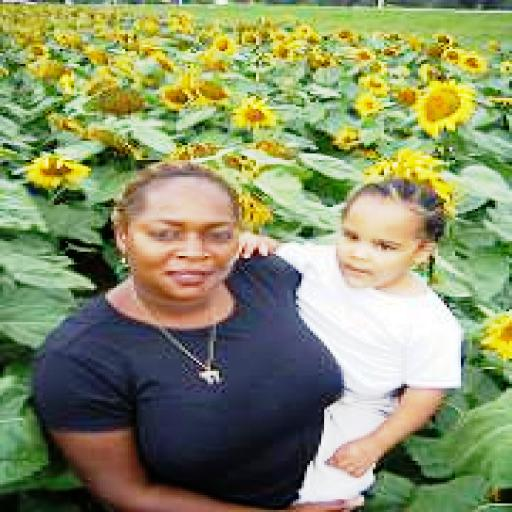sunflower: (17, 151, 85, 190), (418, 81, 472, 128), (483, 311, 512, 362), (236, 96, 276, 126), (461, 51, 486, 73)
